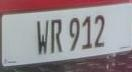1: (81, 11, 94, 52)
2: (92, 10, 109, 54)
9: (67, 11, 83, 58)
R: (48, 13, 64, 55)
W: (34, 14, 50, 57)
